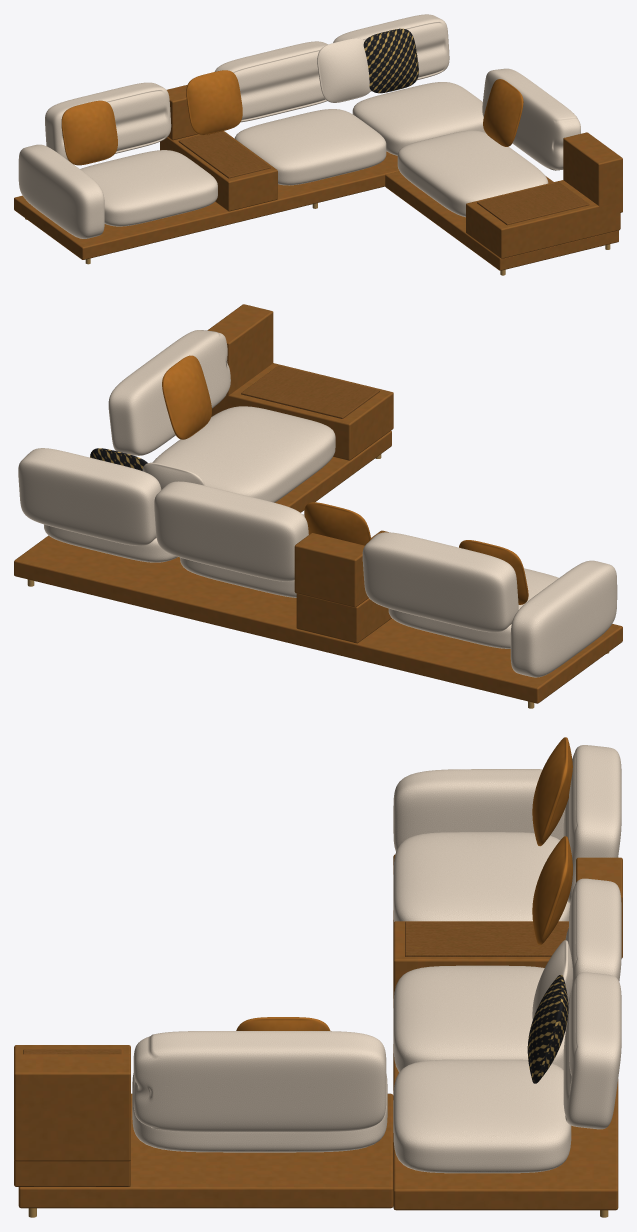
Rendered from lorenzo-l-shape-sofa.glb.
The picture shows the model from 3 angles, top to bottom: view 1: azimuth 30°, elevation 25°; view 2: azimuth 150°, elevation 25°; view 3: azimuth 270°, elevation 25°; orthographic projection. The views are drawn at different scales.
Visible parts, largest first — view 1: base_back, seatR, seat2, seat0, seat3, backc2, armL, consoleR, backc0, backR, base_ret, consbackR (+10 smaller); view 2: base_back, backc0, seatR, backc2, backc3, armL, backR, consoleR, consback1, trayR, consbackR, console1 (+9 smaller); view 3: backR, seat3, base_ret, seat2, seat0, consbackR, base_back, armL, backc3, backc0, seatR, tray1 (+9 smaller).
Boxes of the visible parts, x1,y1,x2,y2 form: base_back: (14,151,399,259); seatR: (397,130,548,217); seat2: (234,109,386,185); seat0: (80,150,217,226); seat3: (352,82,485,155); backc2: (214,41,327,122); armL: (18,144,104,238); consoleR: (466,180,620,258); backc0: (45,82,171,160); backR: (482,68,580,170); base_ret: (385,171,618,270); consbackR: (563,132,622,212); base_back: (14,535,622,703); backc0: (362,532,518,632); seatR: (153,406,335,502); backc2: (154,481,308,581); backc3: (18,448,161,545); armL: (510,560,617,677); backR: (108,330,230,455); consoleR: (211,363,393,460); consback1: (294,533,368,607); trayR: (241,365,379,418); consbackR: (207,304,273,408); console1: (296,530,391,643); backR: (133,1031,386,1132); seat3: (393,1059,571,1173); base_ret: (18,1093,393,1208); seat2: (393,965,565,1072); seat0: (393,832,570,921); consbackR: (14,1054,130,1161); base_back: (393,854,618,1210); armL: (393,769,565,851); backc3: (563,972,621,1129); backc0: (563,745,621,903); seatR: (132,1073,387,1152); tray1: (405,921,568,956).
Size of the model in its own units: 3.4 by 0.8614 by 2.6.
6 materials, 5 textured.
